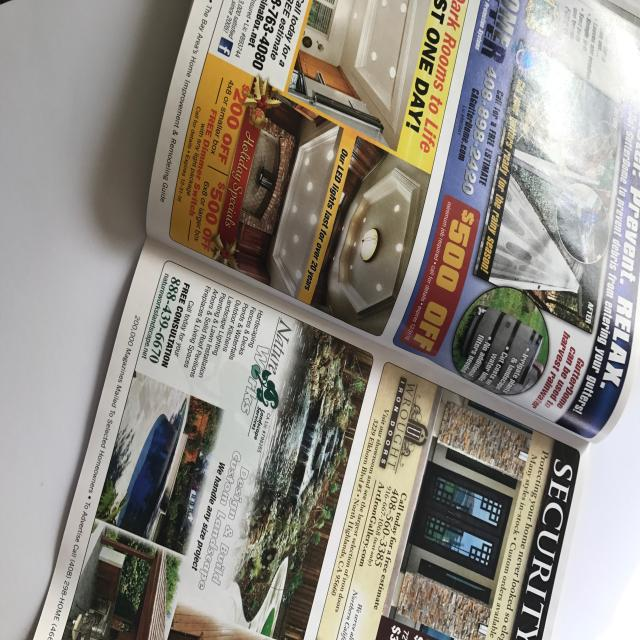paper: (6, 0, 638, 640)
